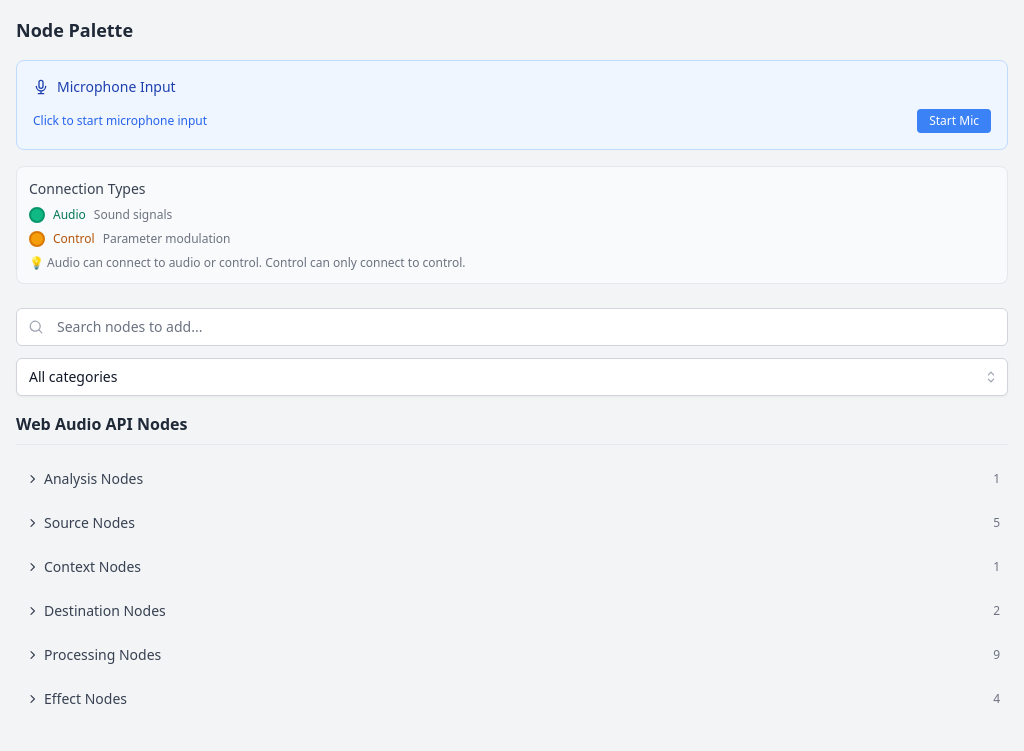
NodePalette - Filtering System › Basic Rendering › should expand category when clicked
Note: Click to expand source category
Click the button "source Nodes 5" at (66, 522), box [16,505,1008,541]
(page scrolled)
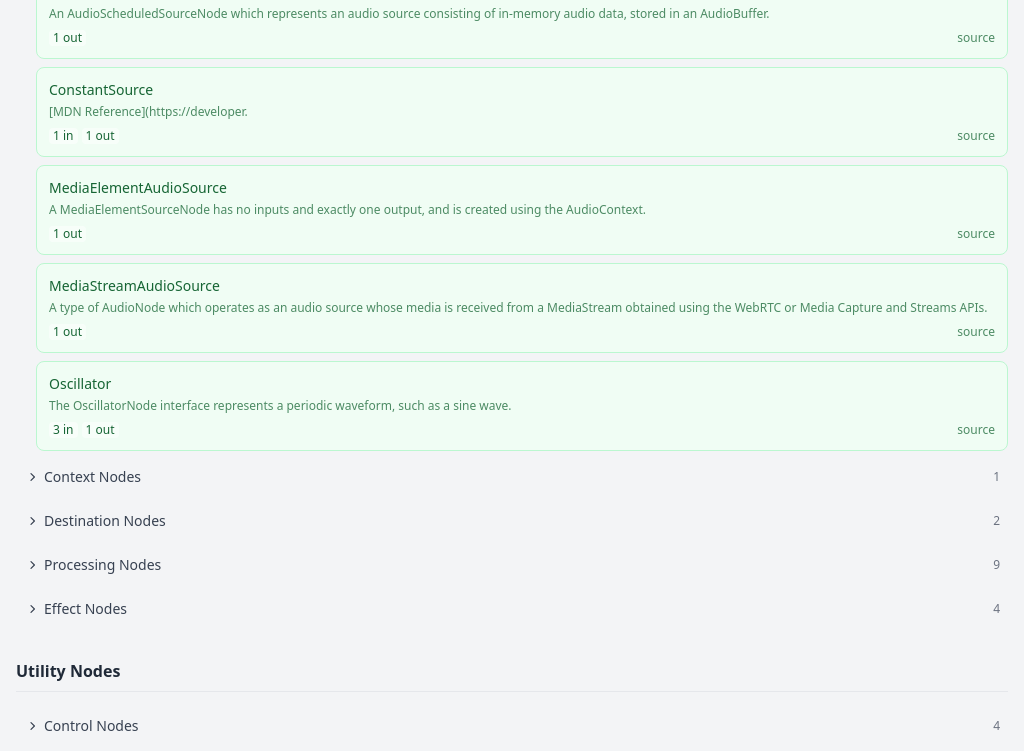
Check: the text "Oscillator" is shown, box [49,374,111,393]
